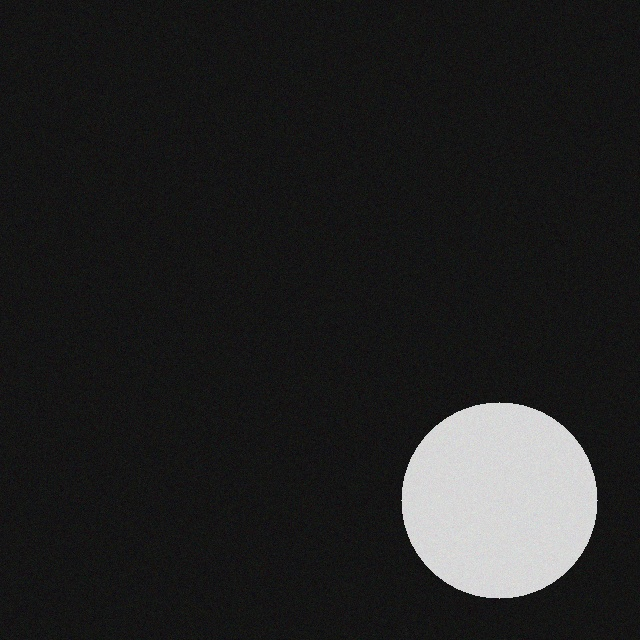circle: (401, 415, 597, 611)
